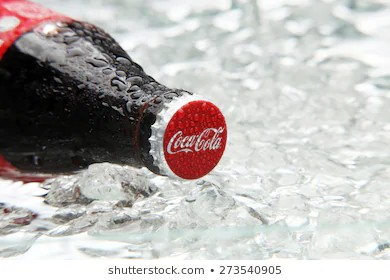coke-glass-bottle: (1, 1, 226, 180)
